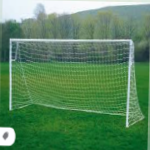goals: (6, 34, 146, 134)
